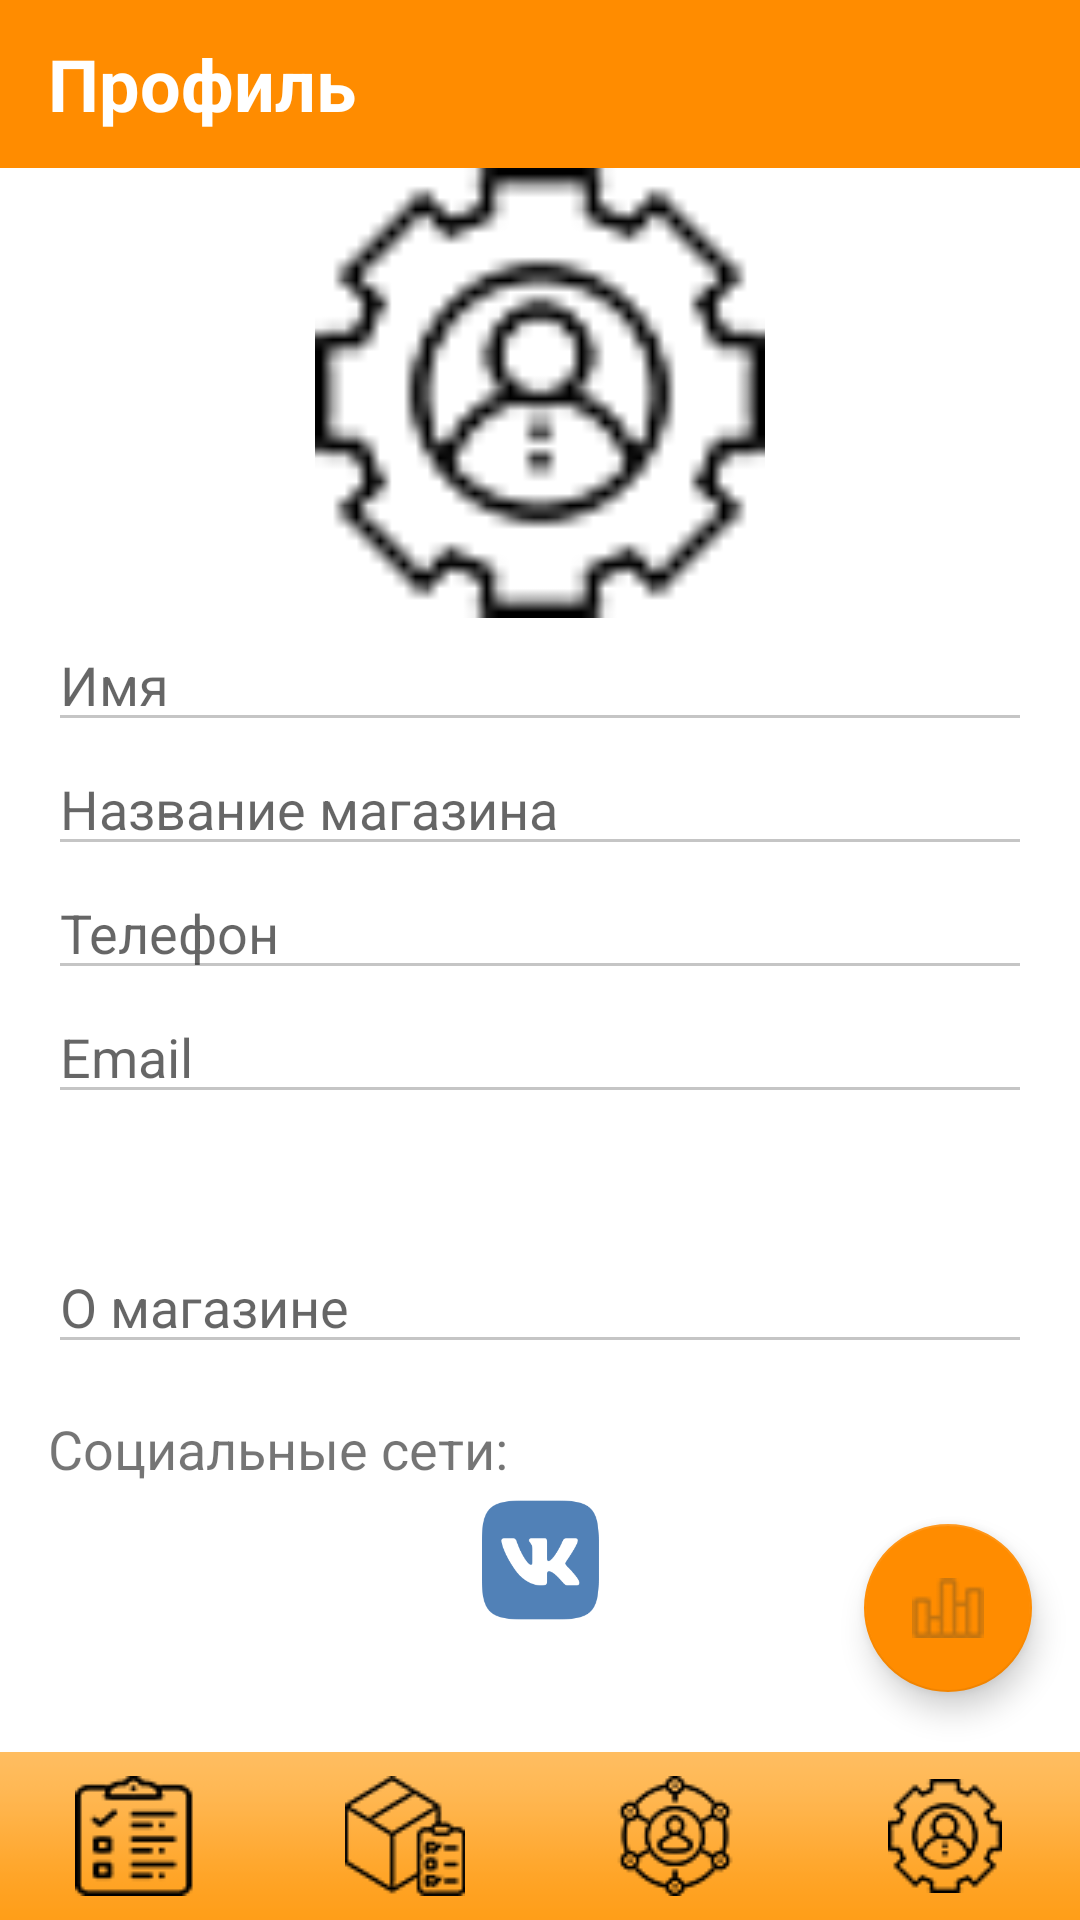

Named icons in this screenshot (1080px×1920px) and their bounding boxes, (x1, y1, x2, y2):
bar: (864, 1524, 1032, 1692)
